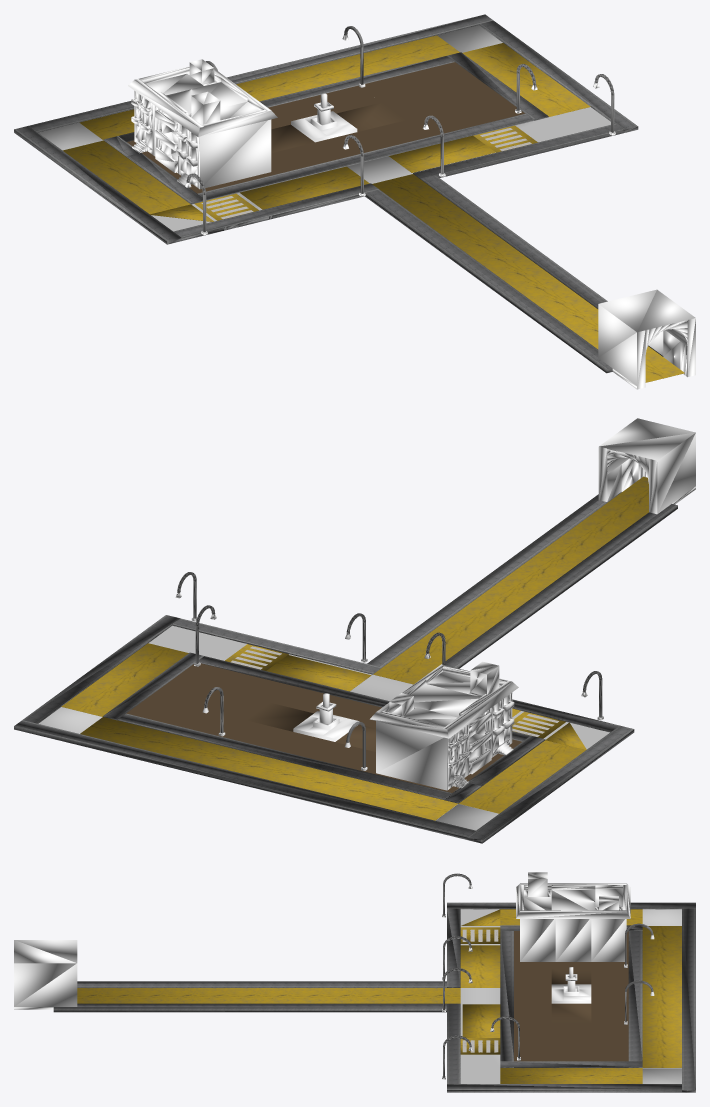
Rendered from StreetStuff.fbx.
3 views of the same model, one above another, from view 1: azimuth 30°, elevation 25°; view 2: azimuth 150°, elevation 25°; view 3: azimuth 270°, elevation 25° (orthographic). The views are drawn at different scales.
Parts seen in each view (by area): view 1: MaterialMesh_6, MaterialMesh_7, MaterialMesh_4, MaterialMesh, MaterialMesh_3, MaterialMesh_8, MaterialMesh_1, MaterialMesh_5; view 2: MaterialMesh_6, MaterialMesh_7, MaterialMesh_4, MaterialMesh, MaterialMesh_3, MaterialMesh_8, MaterialMesh_1, MaterialMesh_5; view 3: MaterialMesh_7, MaterialMesh_6, MaterialMesh_4, MaterialMesh, MaterialMesh_3, MaterialMesh_8, MaterialMesh_1, MaterialMesh_5.
Part boxes in pixels (x1,y1,x2,y2): MaterialMesh_6: (63, 35, 684, 382); MaterialMesh_7: (14, 14, 663, 373); MaterialMesh_4: (127, 62, 524, 193); MaterialMesh: (128, 59, 277, 189); MaterialMesh_3: (598, 289, 695, 389); MaterialMesh_8: (38, 25, 610, 231); MaterialMesh_1: (186, 26, 614, 232); MaterialMesh_5: (201, 128, 531, 219); MaterialMesh_6: (61, 476, 648, 820); MaterialMesh_7: (14, 492, 677, 843); MaterialMesh_4: (126, 663, 521, 792); MaterialMesh: (370, 661, 518, 790); MaterialMesh_3: (598, 418, 695, 514); MaterialMesh_8: (38, 625, 609, 830); MaterialMesh_1: (177, 572, 602, 768); MaterialMesh_5: (230, 646, 558, 736); MaterialMesh_7: (53, 902, 695, 1092); MaterialMesh_6: (77, 909, 681, 1083); MaterialMesh_4: (514, 931, 628, 1061); MaterialMesh: (516, 872, 630, 961); MaterialMesh_3: (14, 940, 77, 1009); MaterialMesh_8: (460, 909, 681, 1083); MaterialMesh_1: (443, 873, 653, 1077); MaterialMesh_5: (462, 929, 498, 1052).
Size of the model in its own units: 11200 by 1875 by 17250.
